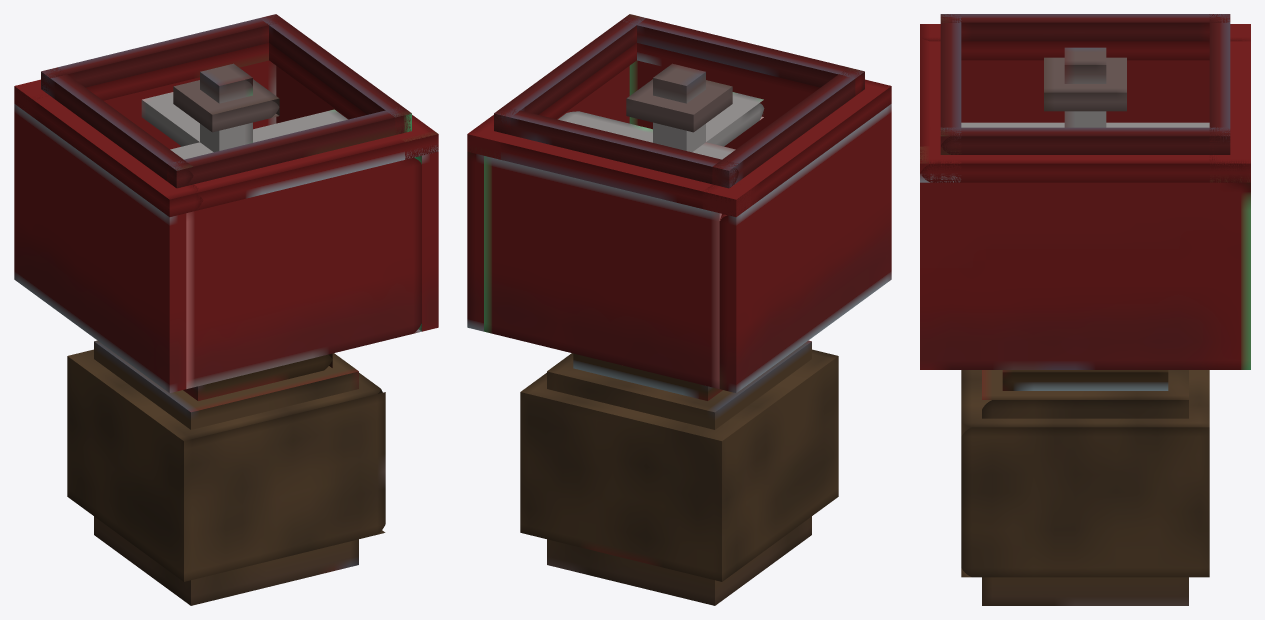
Rendered from lamp_obj.obj.
3 renders of one model, left to right at view 1: azimuth 30°, elevation 25°; view 2: azimuth 150°, elevation 25°; view 3: azimuth 270°, elevation 25°, orthographic. The views are drawn at different scales.
Parts seen in each view (by area): view 1: cube.001, cube.005, cube.006, cube.002, cube.015, cube, cube.019, cube.013, cube.018, cube.017, cube.007, cube.016 (+8 smaller); view 2: cube.001, cube.020, cube.006, cube.002, cube.014, cube, cube.013, cube.018, cube.019, cube.017, cube.007, cube.016 (+8 smaller); view 3: cube.007, cube.001, cube.006, cube.012, cube.016, cube.017, cube.002, cube, cube.013, cube.003, cube.010, cube.015 (+5 smaller).
Part boxes in pixels (x1,y1,x2,y2): cube.001: [67, 349, 385, 581]; cube.005: [186, 156, 421, 388]; cube.006: [14, 104, 186, 393]; cube.002: [94, 340, 358, 429]; cube.015: [161, 122, 438, 216]; cube: [94, 516, 358, 605]; cube.019: [167, 107, 411, 188]; cube.013: [14, 79, 203, 217]; cube.018: [41, 14, 284, 92]; cube.017: [41, 67, 193, 188]; cube.007: [276, 66, 438, 331]; cube.016: [260, 14, 411, 134]; cube.001: [520, 349, 838, 581]; cube.020: [484, 156, 721, 388]; cube.006: [719, 104, 891, 393]; cube.002: [547, 340, 811, 429]; cube.014: [467, 122, 755, 216]; cube: [547, 516, 811, 605]; cube.013: [702, 80, 891, 217]; cube.018: [494, 108, 738, 187]; cube.019: [621, 14, 864, 95]; cube.017: [712, 67, 864, 188]; cube.007: [467, 66, 629, 331]; cube.016: [494, 14, 645, 134]; cube.007: [920, 182, 1250, 369]; cube.001: [961, 370, 1209, 577]; cube.006: [961, 60, 1209, 122]; cube.012: [920, 146, 1250, 182]; cube.016: [940, 127, 1230, 154]; cube.017: [940, 14, 1230, 41]; cube.002: [982, 370, 1188, 418]; cube: [982, 577, 1188, 605]; cube.013: [920, 24, 1250, 60]; cube.003: [1002, 370, 1168, 390]; cube.010: [1044, 57, 1126, 111]; cube.015: [920, 24, 961, 182].
Size of the model in its own units: 1 by 1.69 by 1.
